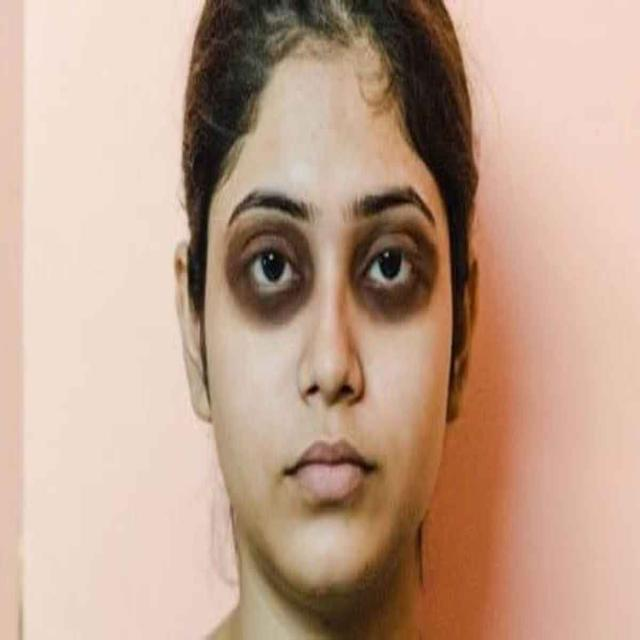Eyebags: (224, 215, 317, 331), (346, 219, 440, 331)
